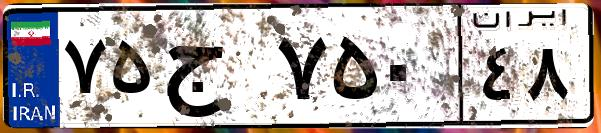0: (385, 28, 445, 110)
4: (475, 38, 525, 113)
5: (330, 28, 385, 110), (110, 28, 158, 98)
7: (270, 28, 330, 110), (57, 26, 110, 100)
8: (525, 38, 570, 115)
ج: (158, 20, 270, 120)
